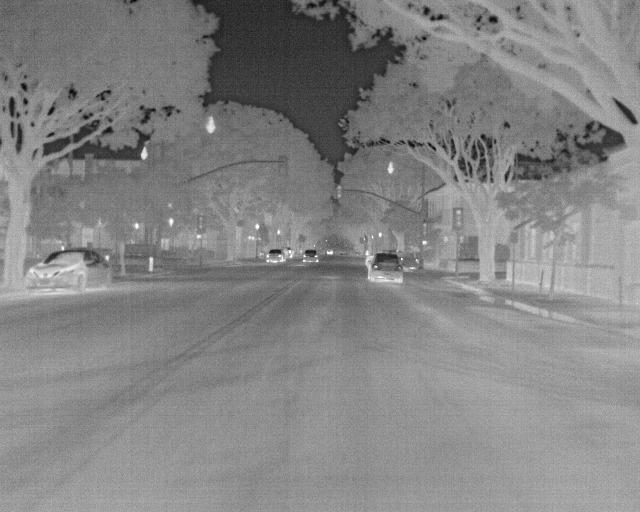car: (24, 246, 115, 291), (367, 249, 406, 284), (264, 248, 287, 265), (301, 249, 320, 264)
